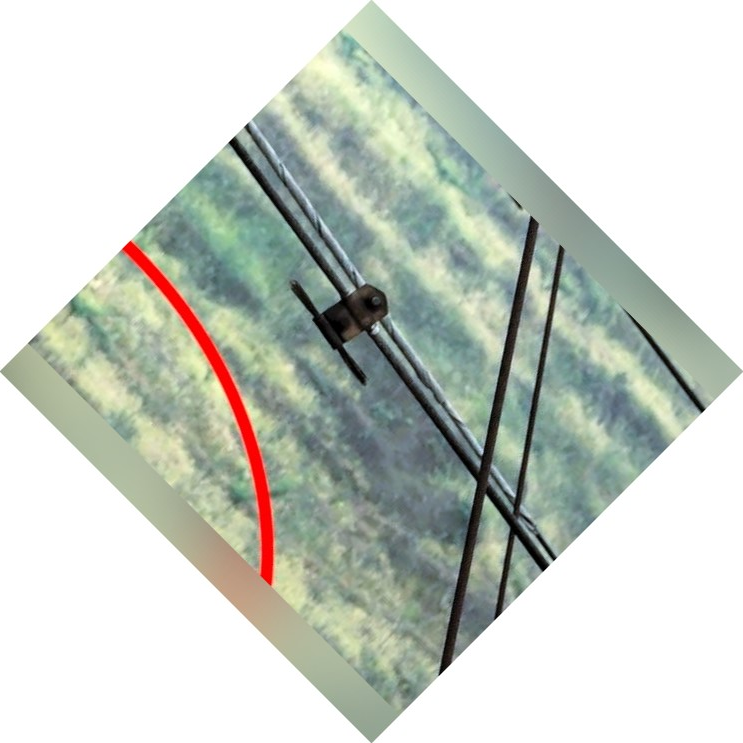Damage of shockproof hammer: (286, 263, 408, 394)
